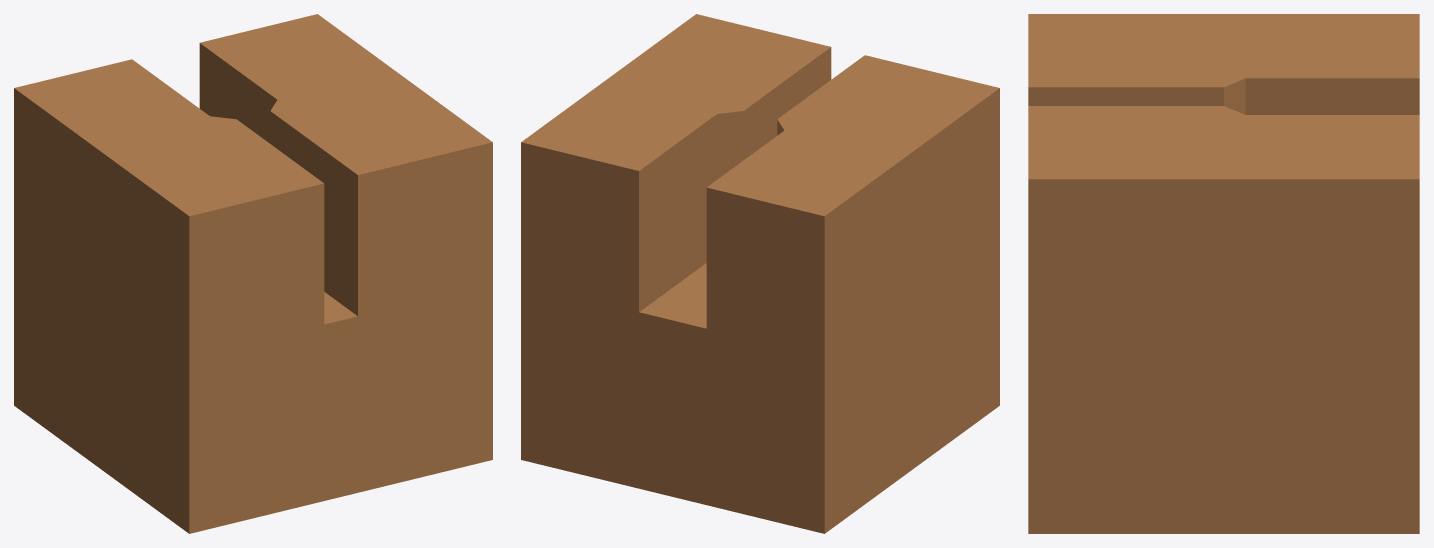
Rendered from Width_Transition_Model.fbx.
The picture shows the model from 3 angles, left to right: view 1: azimuth 30°, elevation 25°; view 2: azimuth 150°, elevation 25°; view 3: azimuth 270°, elevation 25°; orthographic projection. The views are drawn at different scales.
Visible parts, largest first — view 1: Cube; view 2: Cube; view 3: Cube.
Boxes of the visible parts, box(x1,y1,x2,y2) form: Cube: box(14, 14, 492, 533); Cube: box(521, 14, 999, 533); Cube: box(1028, 14, 1419, 533).
Size of the model in its own units: 100 by 100 by 100.
